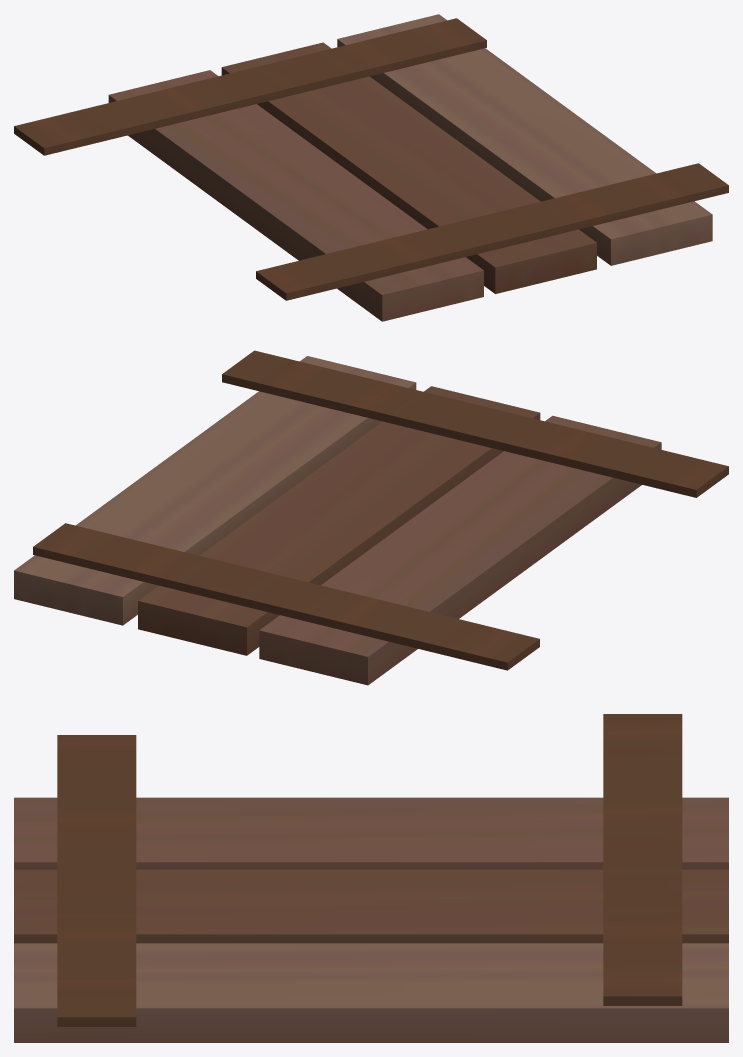
The model's file is M_WoodenSchaffoldPlanks_01.fbx.
3 views of the same model, one above another, from view 1: azimuth 30°, elevation 25°; view 2: azimuth 150°, elevation 25°; view 3: azimuth 270°, elevation 25° (orthographic). The views are drawn at different scales.
Parts seen in each view (by area): view 1: M_WoodenSchaffoldPlanks_01; view 2: M_WoodenSchaffoldPlanks_01; view 3: M_WoodenSchaffoldPlanks_01.
Boxes of the visible parts, x1=… form: M_WoodenSchaffoldPlanks_01: x1=14, y1=14, x2=728, y2=321; M_WoodenSchaffoldPlanks_01: x1=14, y1=350, x2=728, y2=685; M_WoodenSchaffoldPlanks_01: x1=14, y1=714, x2=728, y2=1042.
Size of the model in its own units: 347 by 24.89 by 346.
1 material, 1 textured.
